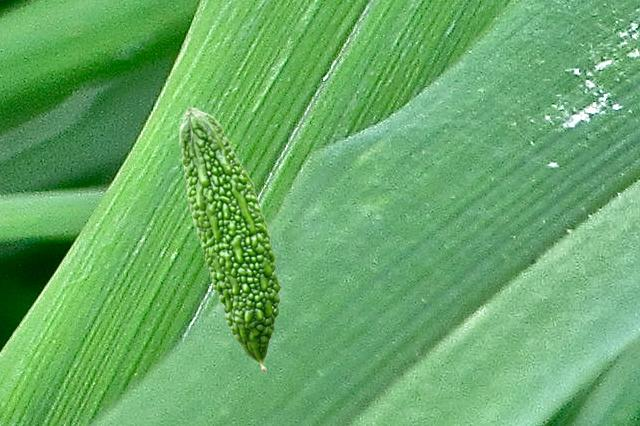ampalaya: (177, 105, 285, 374)
